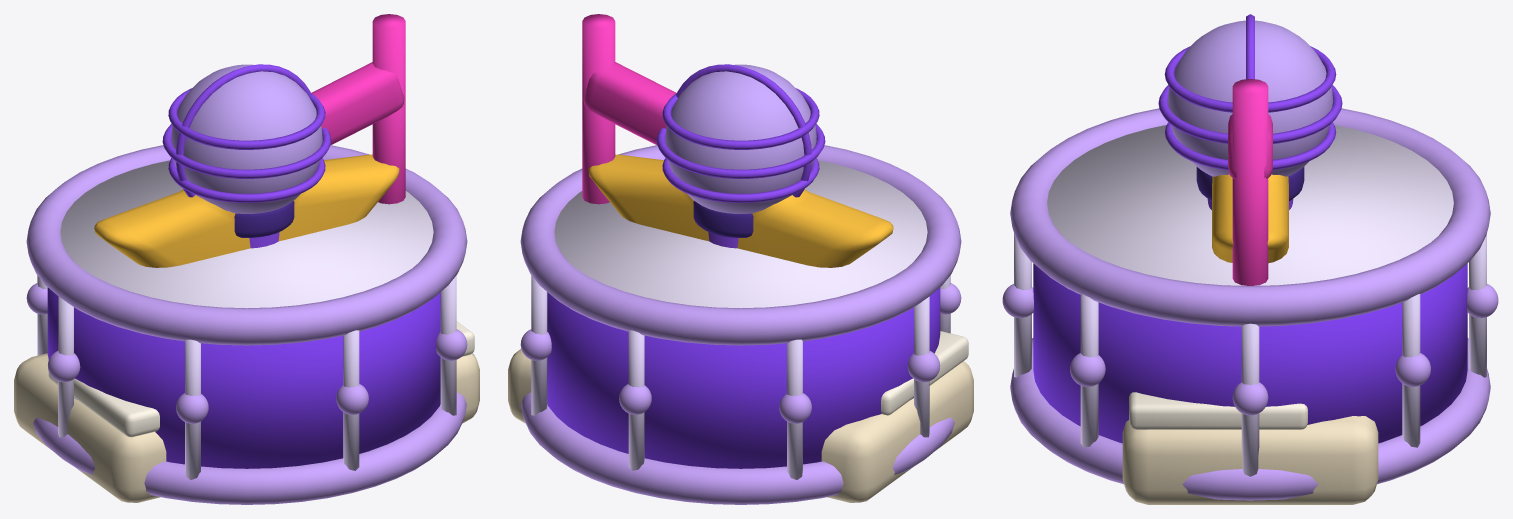
File: props.glb
3 renders of one model, left to right at view 1: azimuth 30°, elevation 25°; view 2: azimuth 150°, elevation 25°; view 3: azimuth 270°, elevation 25°, orthographic. The views are drawn at different scales.
Parts seen in each view (by area): view 1: prop_beats, prop_vocals, prop_fx, prop_melody, prop_bass; view 2: prop_beats, prop_vocals, prop_fx, prop_melody, prop_bass; view 3: prop_beats, prop_melody, prop_vocals, prop_bass, prop_fx.
Part boxes in pixels (<box>): prop_beats: <box>26,145,467,504</box>; prop_vocals: <box>162,64,331,248</box>; prop_fx: <box>94,154,399,267</box>; prop_melody: <box>14,321,479,502</box>; prop_bass: <box>311,14,405,204</box>; prop_beats: <box>520,145,961,504</box>; prop_vocals: <box>656,64,825,248</box>; prop_fx: <box>588,154,893,267</box>; prop_melody: <box>508,331,973,502</box>; prop_bass: <box>582,14,676,204</box>; prop_beats: <box>1002,108,1498,500</box>; prop_melody: <box>1122,392,1378,504</box>; prop_vocals: <box>1158,14,1342,209</box>; prop_bass: <box>1228,79,1272,285</box>; prop_fx: <box>1212,174,1288,263</box>.
Size of the model in its own units: 0.388 by 0.3583 by 0.388.
Materials: 2 (2 with a texture image).
